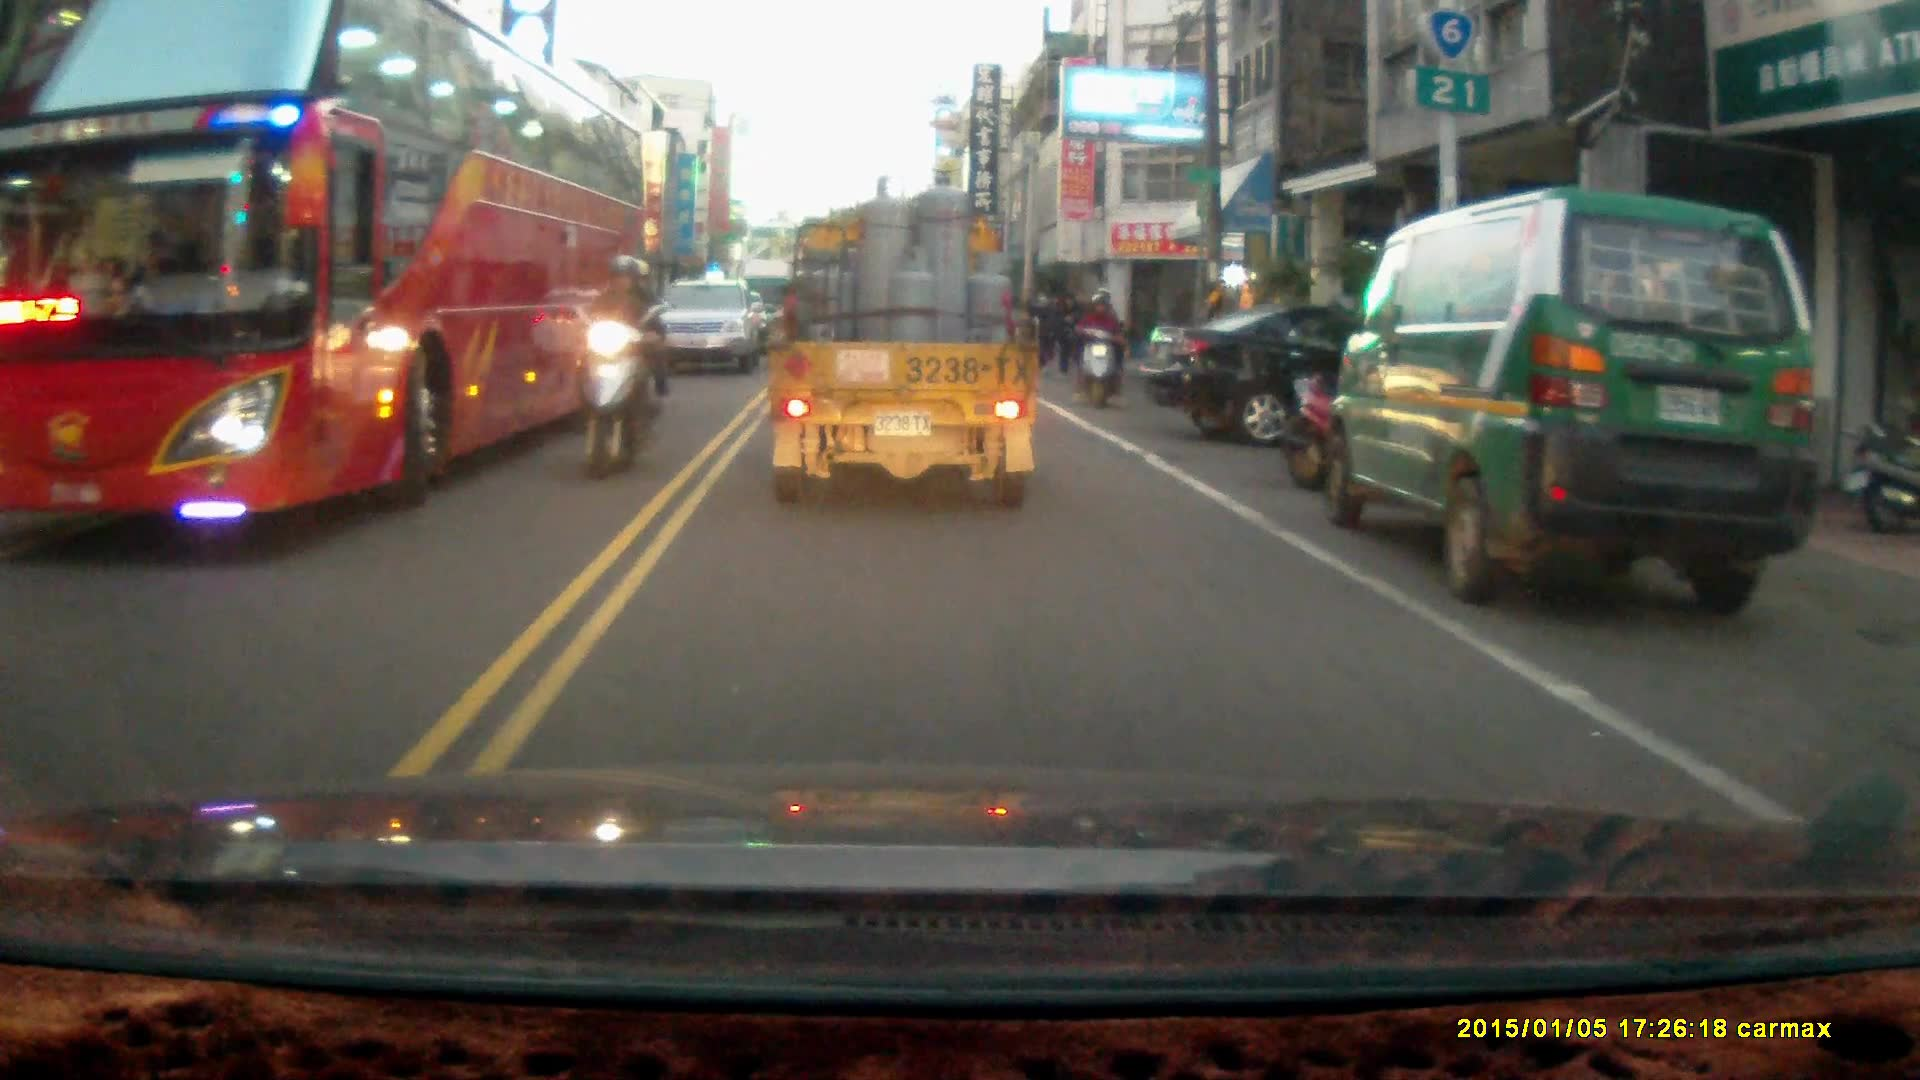pedestrian: (1052, 288, 1078, 377)
rider: (565, 250, 665, 480), (1070, 284, 1127, 408)
vehicle: (1, 9, 651, 542), (1326, 182, 1834, 612), (761, 168, 1044, 509), (1155, 297, 1355, 450), (658, 277, 767, 379)
